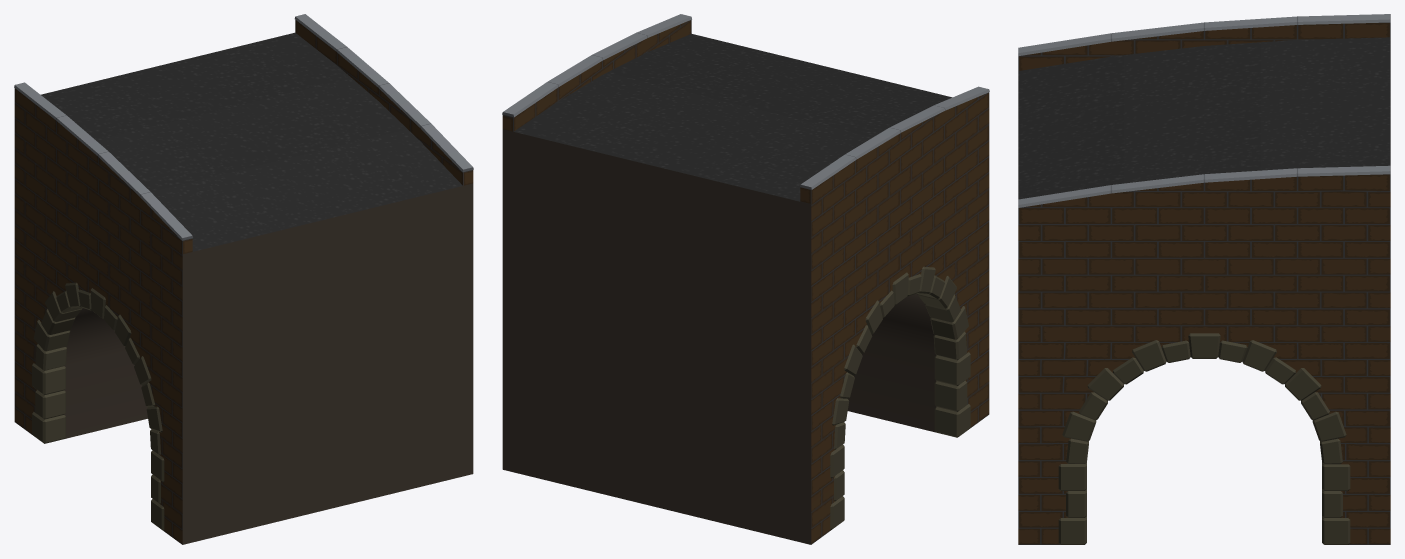
The model's file is SW_ENV_WalledRiserEnd_DoubleTrack.fbx.
3 renders of one model, left to right at view 1: azimuth 30°, elevation 25°; view 2: azimuth 150°, elevation 25°; view 3: azimuth 270°, elevation 25°, orthographic. The views are drawn at different scales.
Visible parts, largest first — view 1: SW_ENV_WalledRiserEnd_DoubleTrack; view 2: SW_ENV_WalledRiserEnd_DoubleTrack; view 3: SW_ENV_WalledRiserEnd_DoubleTrack.
Part boxes in pixels (x1,y1,x2,y2): SW_ENV_WalledRiserEnd_DoubleTrack: [14, 14, 473, 544]; SW_ENV_WalledRiserEnd_DoubleTrack: [502, 14, 989, 544]; SW_ENV_WalledRiserEnd_DoubleTrack: [1018, 14, 1390, 544].
Bounding box in the file's own units: 10.12 × 11.08 × 10.
